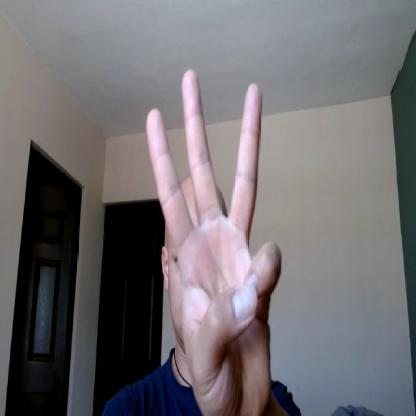W: (147, 72, 284, 415)
